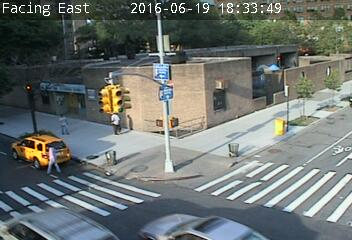neg: (198, 183, 216, 208), (316, 24, 334, 49), (224, 83, 242, 107), (22, 53, 39, 76), (299, 75, 316, 97), (220, 19, 237, 41), (180, 73, 196, 95), (122, 24, 138, 46), (138, 190, 153, 211), (307, 132, 322, 152), (110, 80, 124, 99), (67, 64, 81, 83), (25, 187, 39, 206), (258, 54, 272, 73), (308, 174, 322, 193), (171, 27, 185, 46), (158, 147, 172, 165), (154, 60, 168, 78), (270, 171, 284, 189), (104, 144, 117, 162), (31, 92, 44, 109), (220, 141, 231, 156), (285, 115, 296, 128)
pos: (39, 140, 66, 176), (53, 110, 72, 135), (106, 110, 123, 133)
